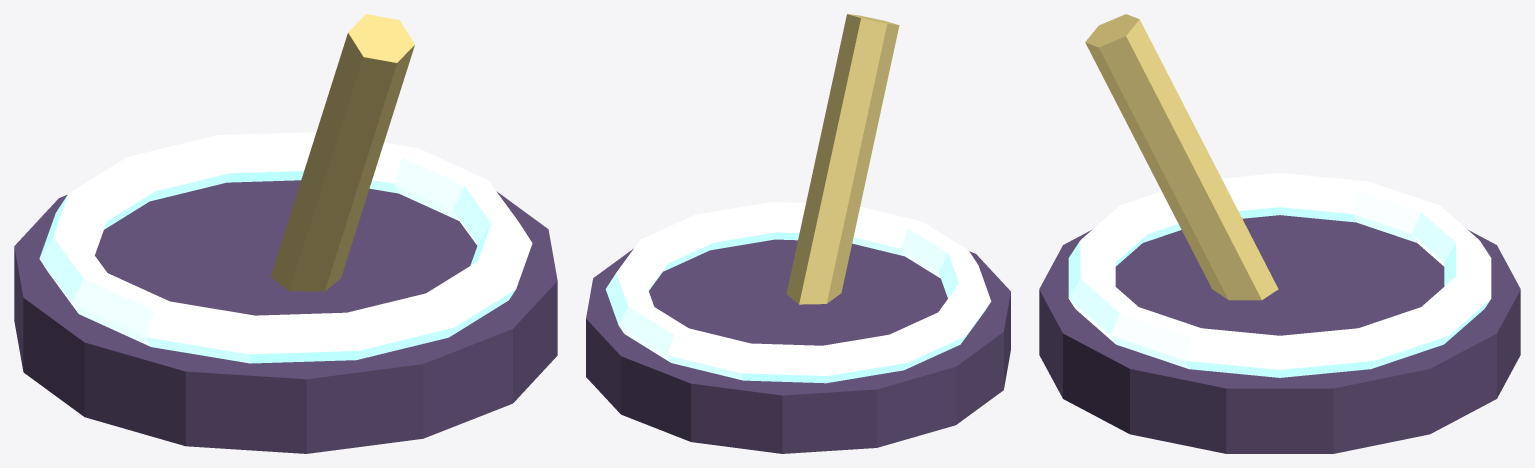
File: tool_grav.glb
The picture shows the model from 3 angles, left to right: view 1: azimuth 30°, elevation 25°; view 2: azimuth 150°, elevation 25°; view 3: azimuth 270°, elevation 25°; orthographic projection. The views are drawn at different scales.
Parts seen in each view (by area): view 1: disc, ring, grip; view 2: disc, ring, grip; view 3: disc, ring, grip.
Boxes of the visible parts, bbox=[...] form: disc: bbox=[14, 180, 557, 453]; ring: bbox=[39, 132, 532, 363]; grip: bbox=[270, 14, 414, 291]; disc: bbox=[586, 239, 1010, 453]; ring: bbox=[605, 202, 991, 383]; grip: bbox=[786, 14, 899, 304]; disc: bbox=[1039, 215, 1520, 453]; ring: bbox=[1068, 173, 1491, 377]; grip: bbox=[1085, 14, 1278, 300].
Size of the model in its own units: 0.39 by 0.3074 by 0.4.
